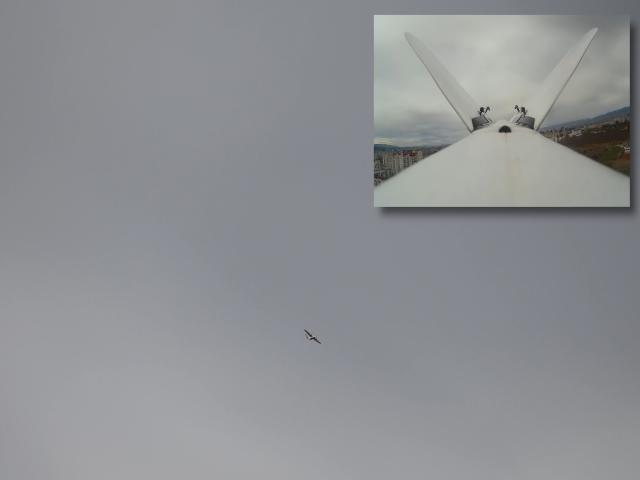plane: (306, 329, 320, 343)
